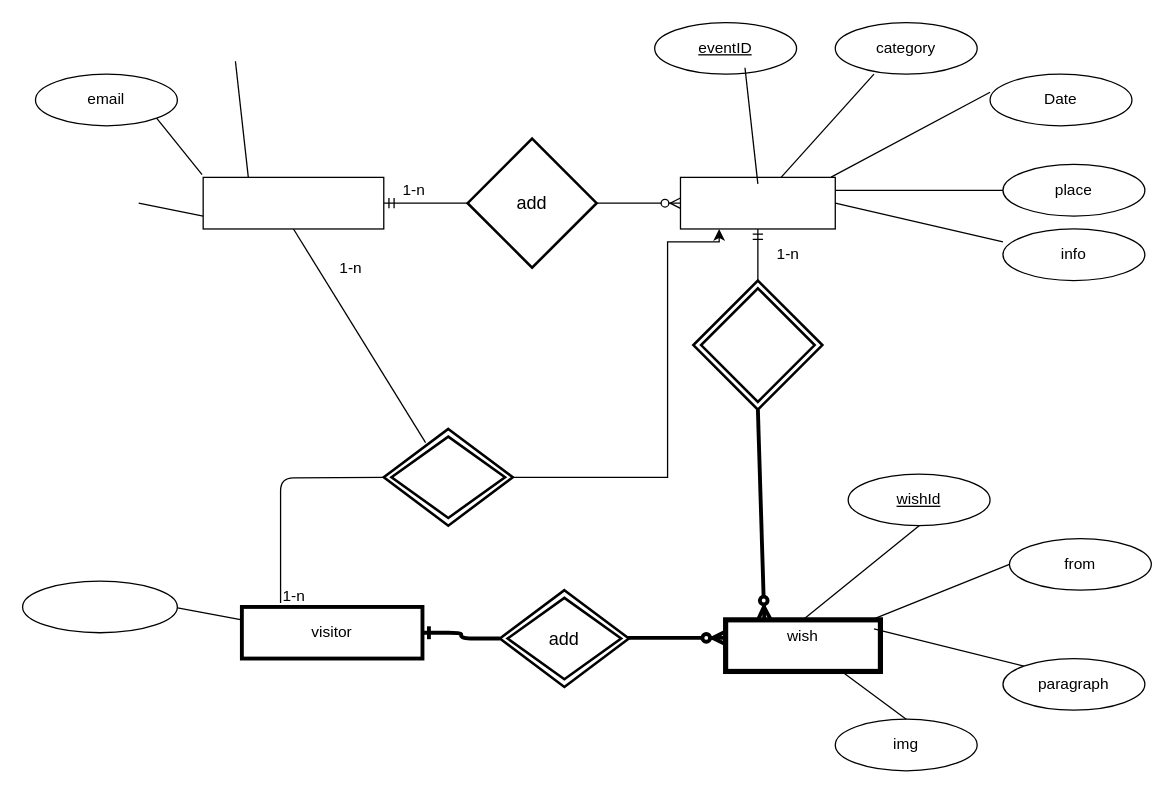
Some shapes in this 1174 by 793 pixel diagram are drawn without their labels. Each missing label, with the centre of its shape:
event: the point at 757,202
Has: the point at 757,344
search: the point at 447,476
user: the point at 293,202
vistorID: the point at 99,606
